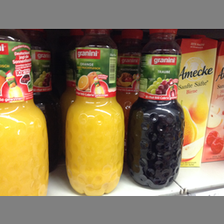juice: (64, 30, 124, 195), (129, 30, 185, 189), (1, 29, 49, 195)
